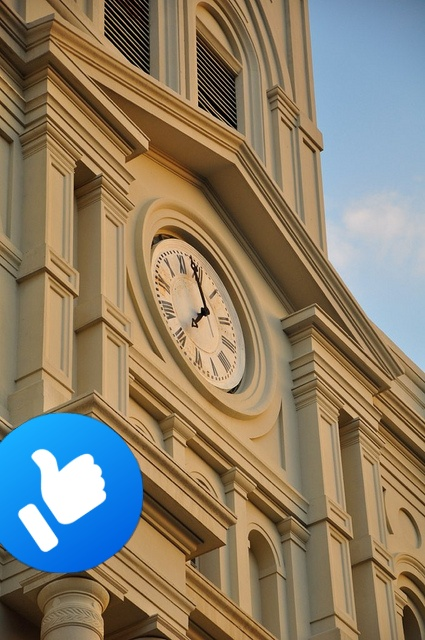like: (0, 413, 143, 573)
